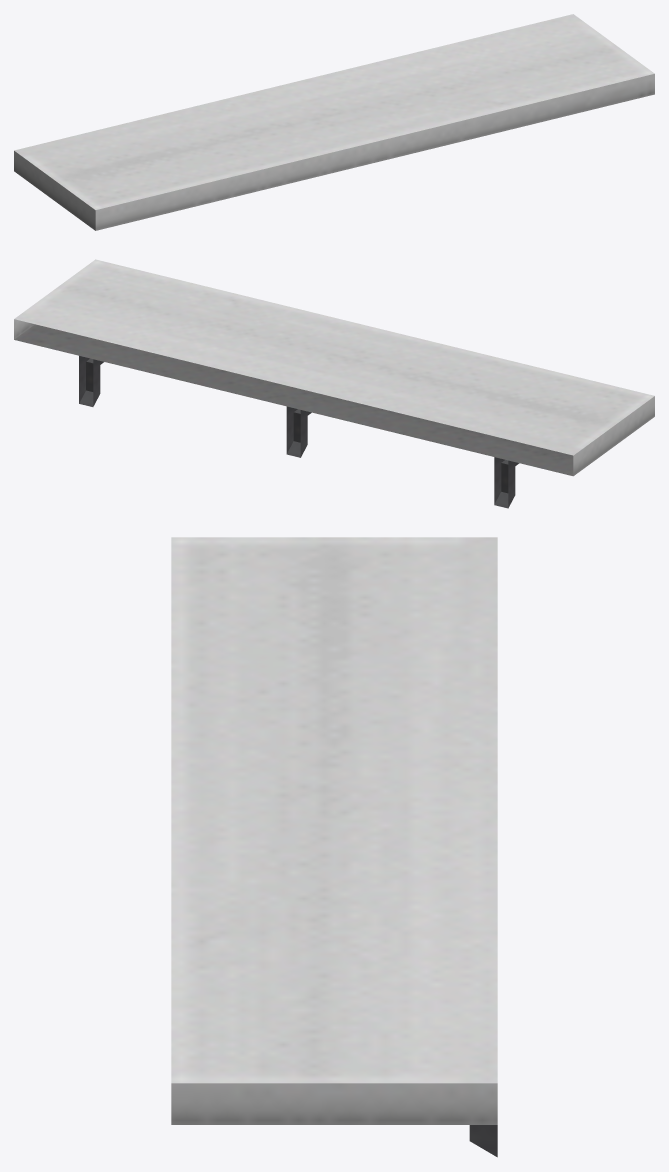
File: wall-shelf_clean.obj
3 views of the same model, one above another, from view 1: azimuth 30°, elevation 25°; view 2: azimuth 150°, elevation 25°; view 3: azimuth 270°, elevation 25° (orthographic). The views are drawn at different scales.
Parts seen in each view (by area): view 1: wall-shelf_clean-col; view 2: wall-shelf_clean-col; view 3: wall-shelf_clean-col.
Boxes of the visible parts, x1,y1,x2,y2 form: wall-shelf_clean-col: (14, 14, 654, 230); wall-shelf_clean-col: (14, 259, 654, 508); wall-shelf_clean-col: (171, 537, 497, 1157).
Bounding box in the file's own units: 0.99 × 0.1164 × 0.25.
